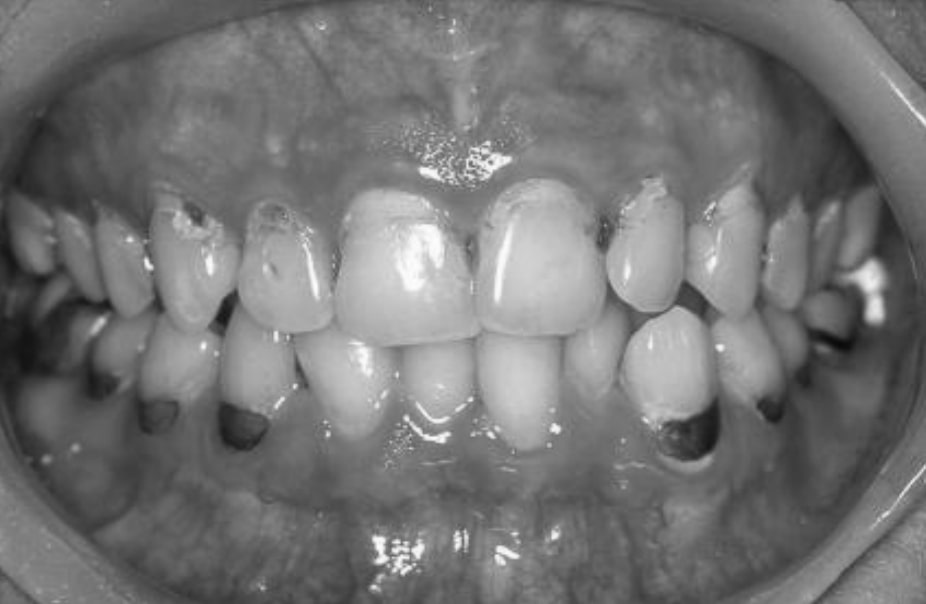karies: (247, 201, 302, 238), (454, 230, 489, 273), (588, 212, 622, 256), (321, 235, 346, 290), (176, 199, 213, 232), (754, 239, 774, 281)
